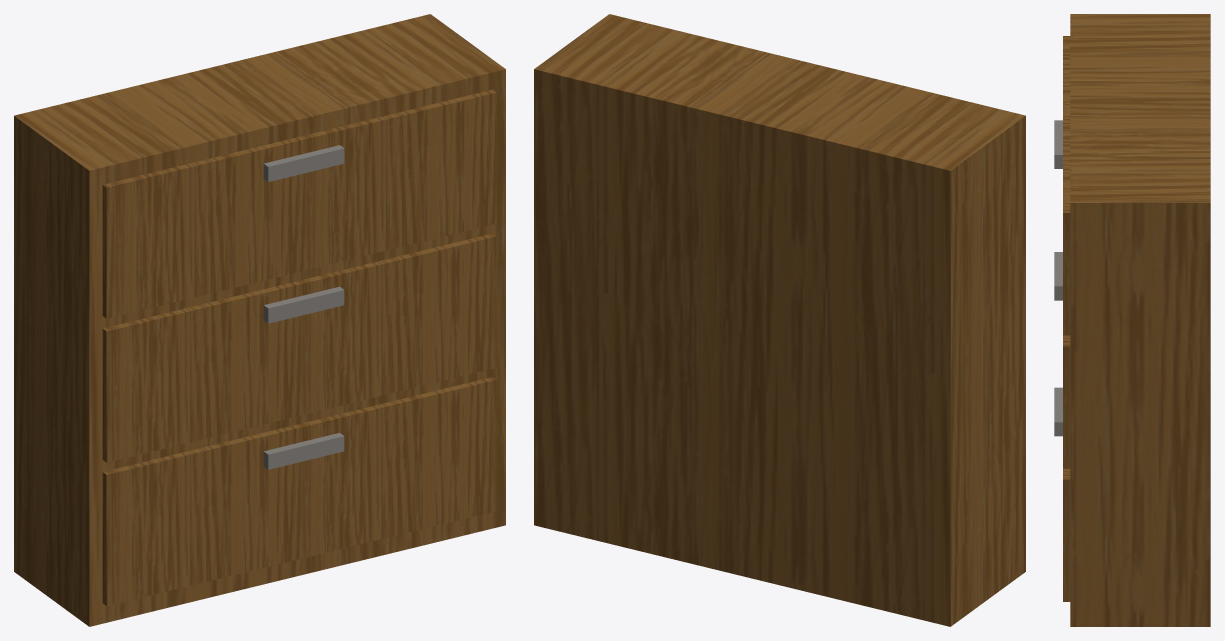
The model's file is Drawers.fbx.
3 renders of one model, left to right at view 1: azimuth 30°, elevation 25°; view 2: azimuth 150°, elevation 25°; view 3: azimuth 270°, elevation 25°, orthographic. The views are drawn at different scales.
Visible parts, largest first — view 1: pCube13; view 2: pCube13; view 3: pCube13.
Boxes of the visible parts, x1,y1,x2,y2 form: pCube13: (14, 14, 505, 626); pCube13: (534, 14, 1025, 626); pCube13: (1054, 14, 1210, 626).
Size of the model in its own units: 24.42 by 25.55 by 8.54.
